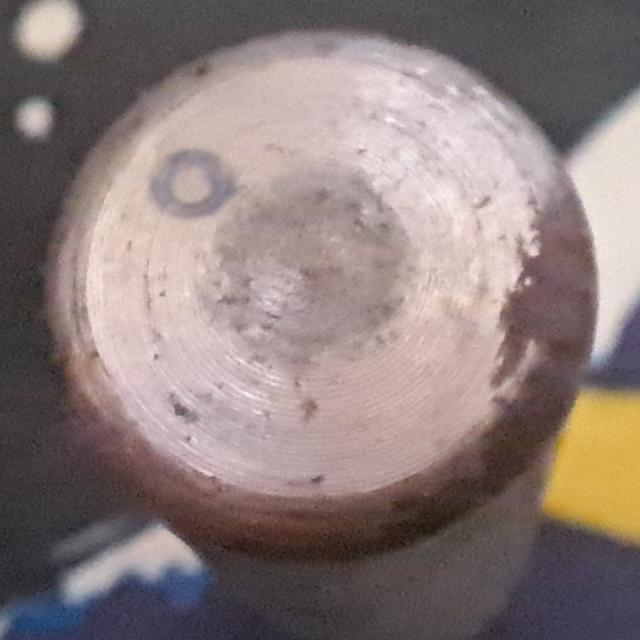defect: (140, 145, 235, 220)
planson: (42, 23, 592, 640)
